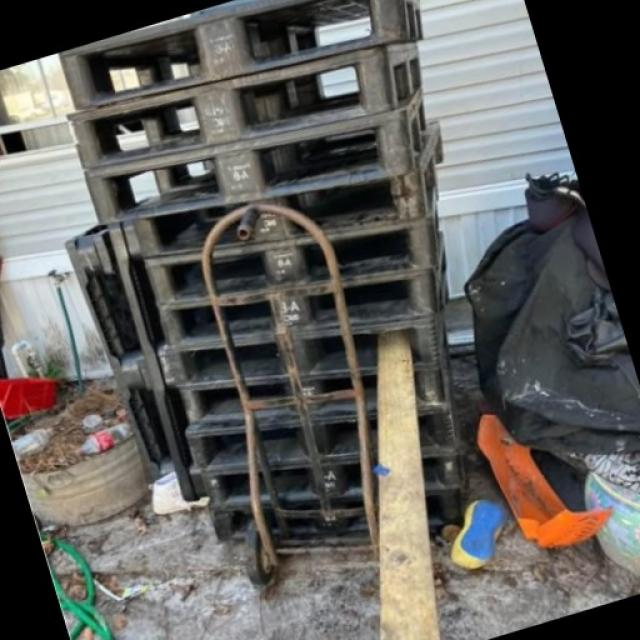non-igps: (79, 82, 438, 232), (60, 34, 429, 176), (126, 111, 454, 268), (51, 0, 429, 118), (61, 212, 183, 488), (103, 217, 216, 505), (140, 206, 440, 314), (152, 260, 446, 354), (163, 304, 447, 395), (179, 394, 473, 474), (169, 356, 459, 434), (202, 481, 473, 554), (195, 448, 474, 512)
